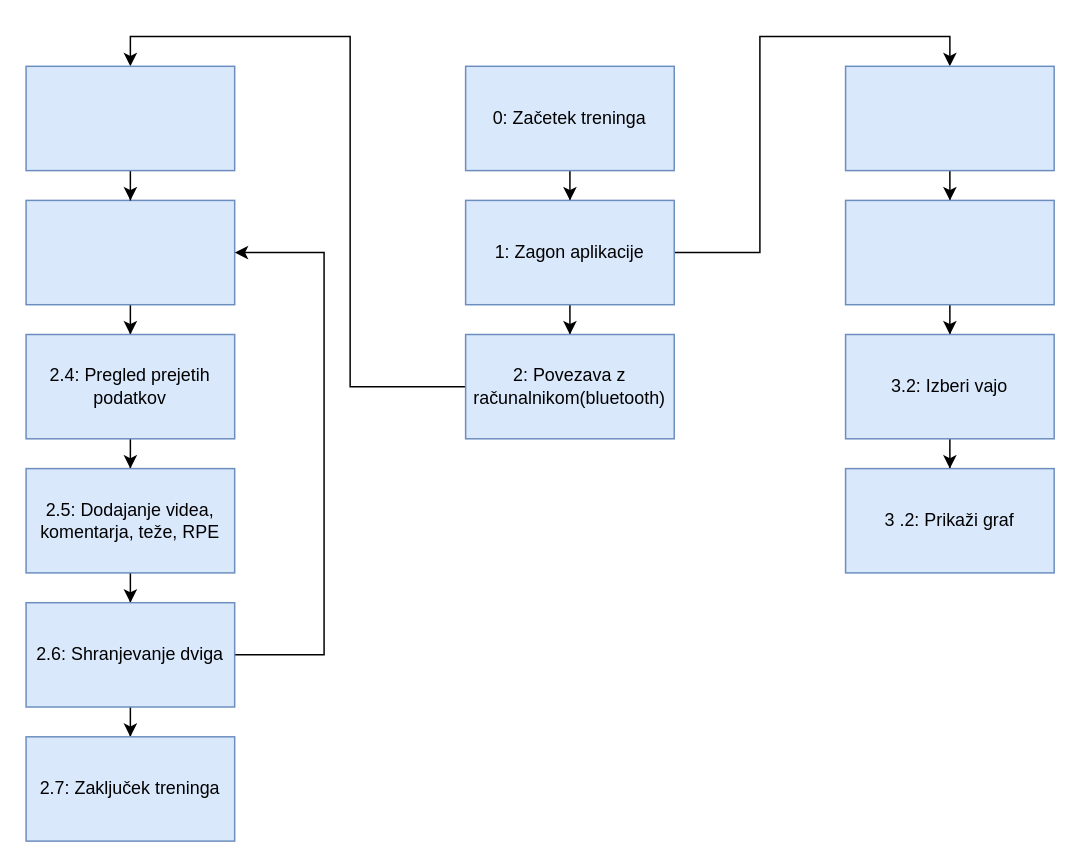
Image size: 1080x867. Some labels were removed from this diagram. The centre of each missing label's shape, as x and y in pixels:
2.1: Nov trening: the point at 130,118
2.3: Izvedba dviga: the point at 130,252
3.1: Izberi graf: the point at 949,252
3: Pregled treningov: the point at 949,118
